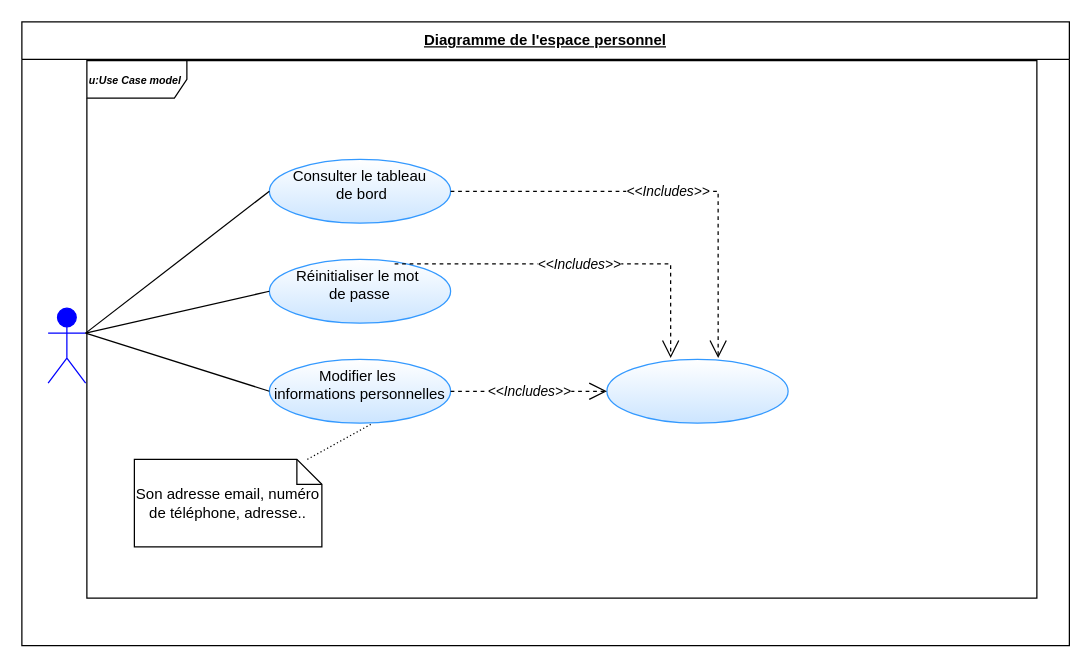
The diagram is 1091 pixels wide and 668 high, and some of its shapes have lost their labels. The shapes that lost their labels are listed below. From the top down, each one's centre as x and y in pixels, then its label:
the point at 66,345: Employé
the point at 697,390: Authentifier
